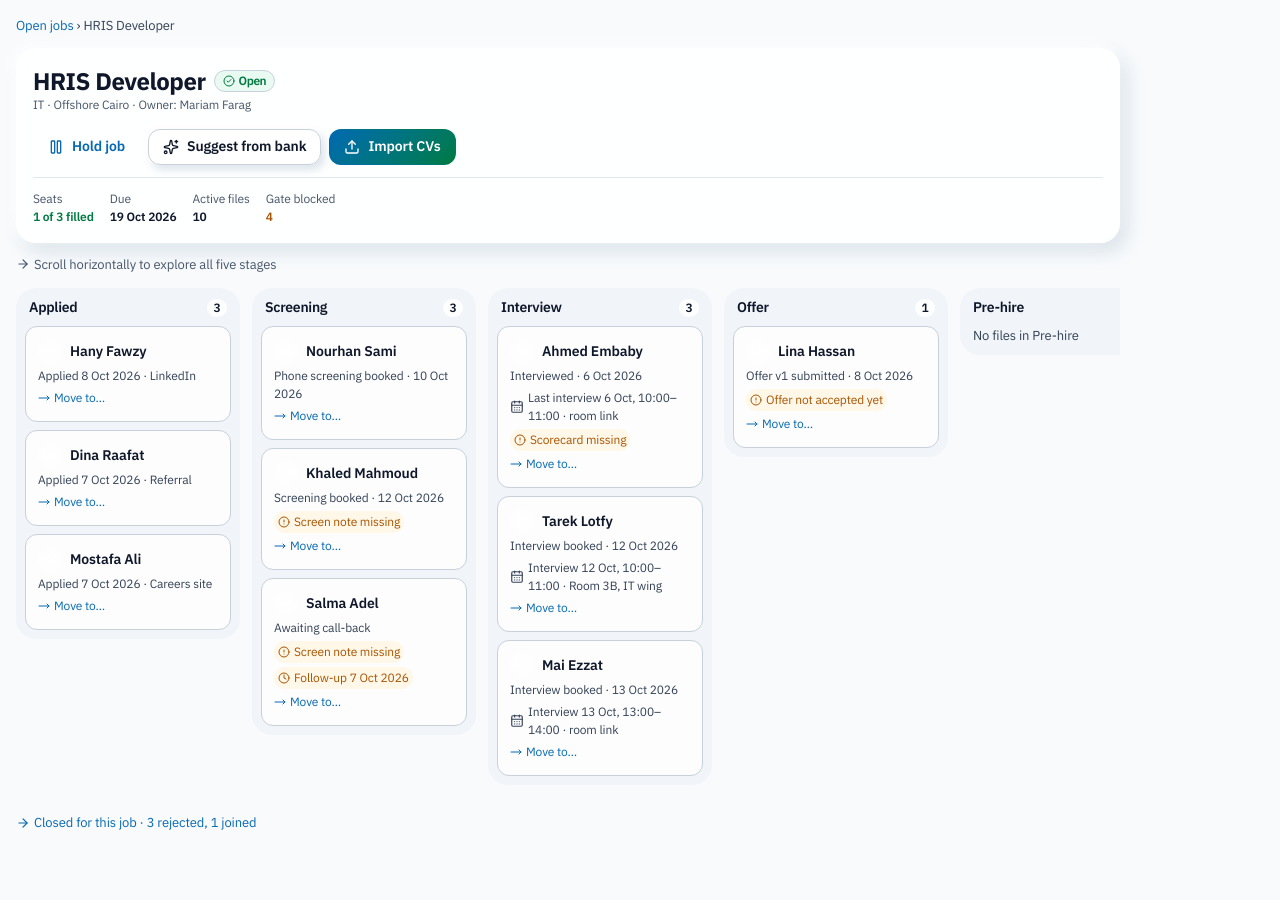
it: E09 Job pipeline › gate 409 {code, gate, missing[]} → toast naming the missing gate; the card stays
Click the button "Move to…" below "Scorecard missing": [543, 464] box [510,455,577,473]
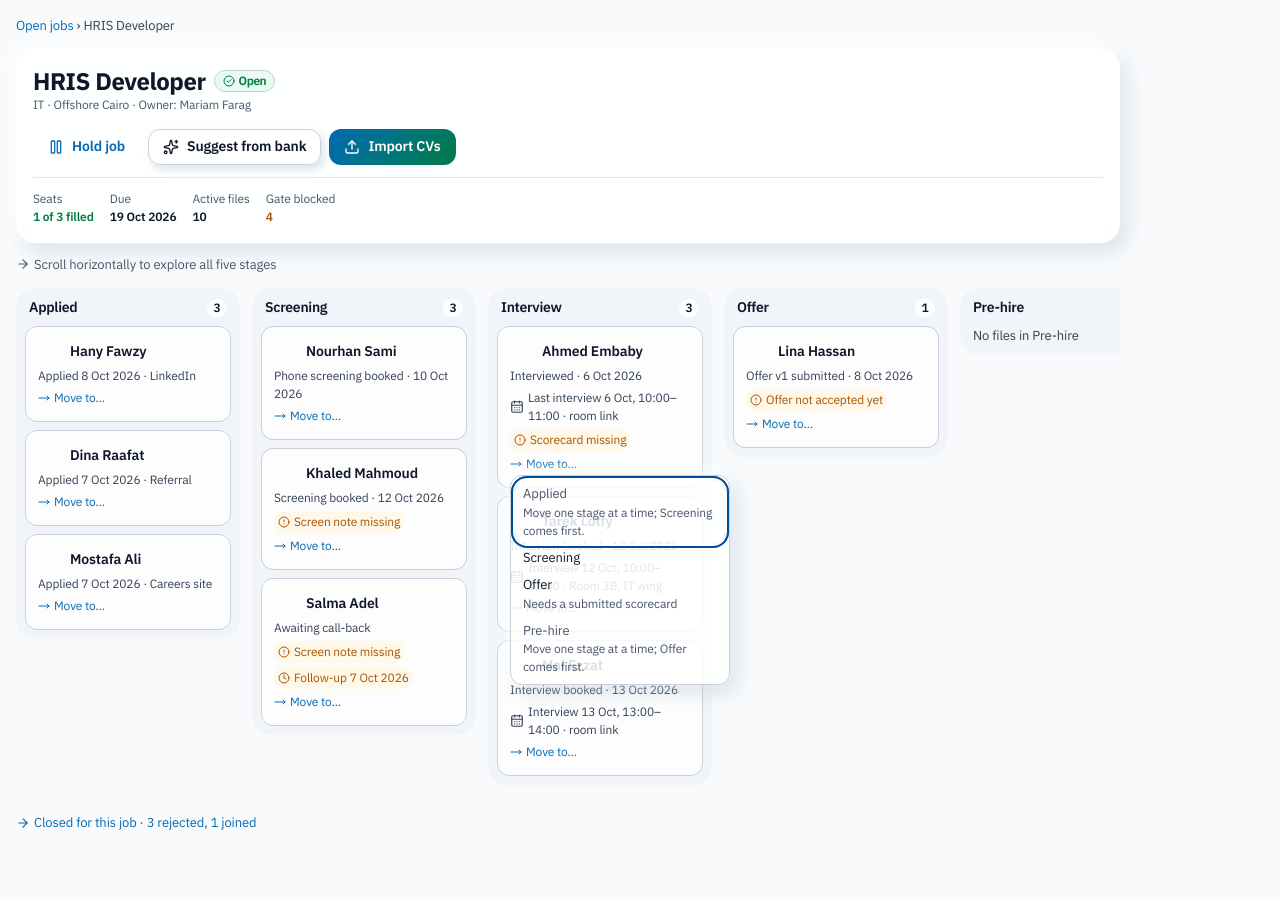
Expected: the menu item "Offer Needs a submitted scorecard" is shown
Click the menu item "Offer Needs a submitted scorecard": [620, 594] box [515,571,725,616]
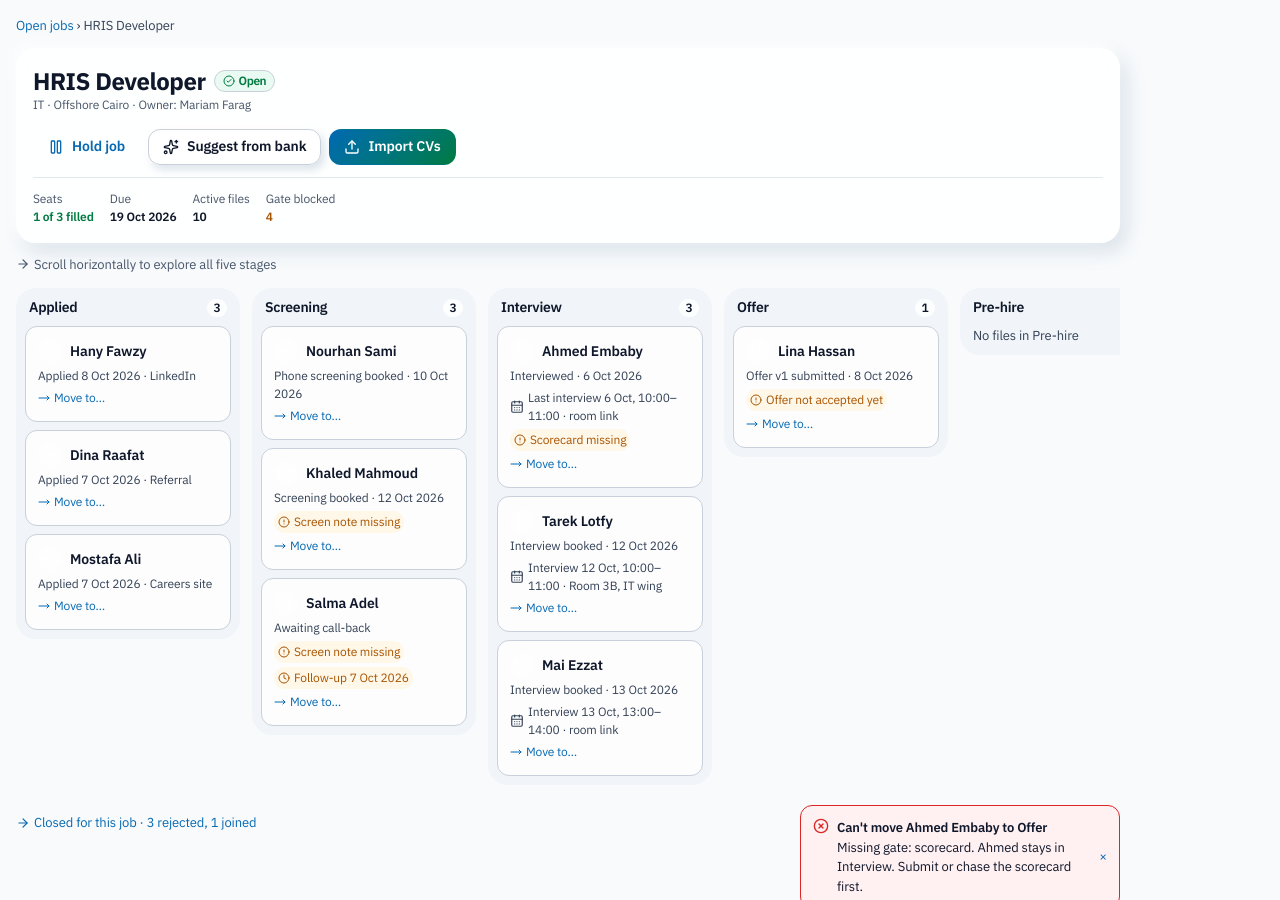
Expected: the element named "Ahmed Embaby, Interview" is shown, [497,326,703,488]
Expected: the message shows "Can't move Ahmed Embaby to Offer", [837,819,1047,836]
Expected: the message shows "Missing gate: scorecard. Ahmed stays in Interview.", [837,838,1071,894]
